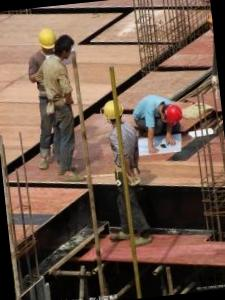no_helmet: (50, 32, 78, 59)
